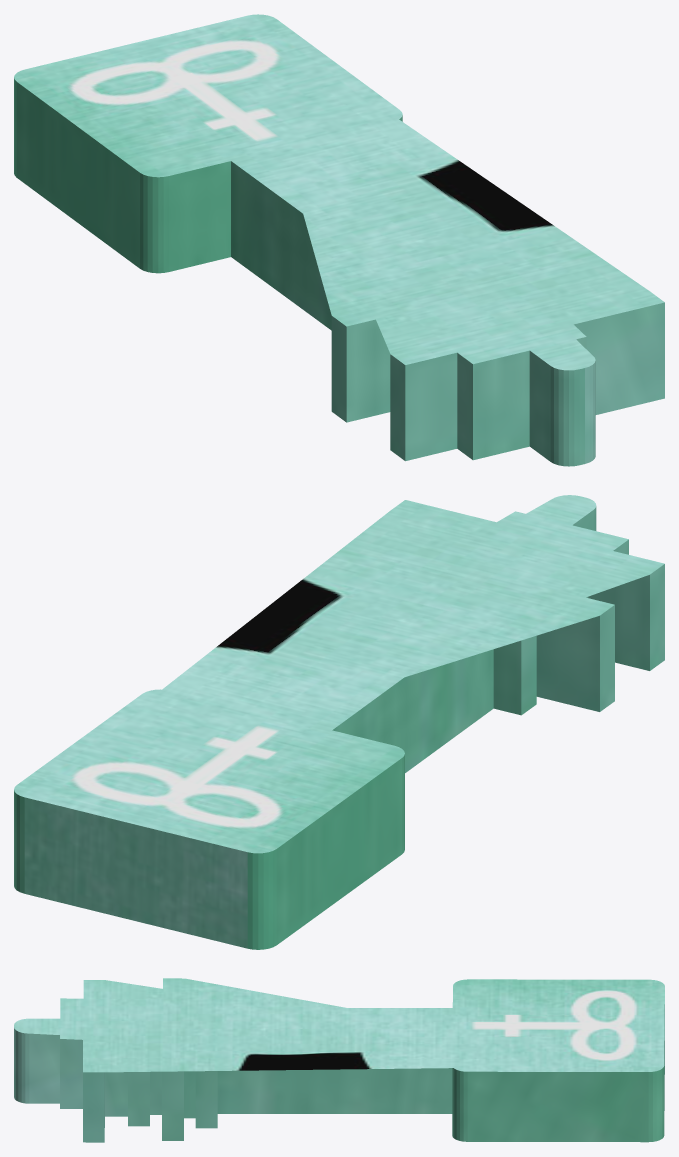
File: FinalKey.fbx
3 views of the same model, one above another, from view 1: azimuth 30°, elevation 25°; view 2: azimuth 150°, elevation 25°; view 3: azimuth 270°, elevation 25° (orthographic). The views are drawn at different scales.
Visible parts, largest first — view 1: FinalKey; view 2: FinalKey; view 3: FinalKey.
Boxes of the visible parts, x1,y1,x2,y2 form: FinalKey: [14, 14, 664, 466]; FinalKey: [14, 495, 664, 949]; FinalKey: [14, 978, 664, 1142].
Bounding box in the file's own units: 2.87 × 1 × 8.41.
1 material, 1 textured.
